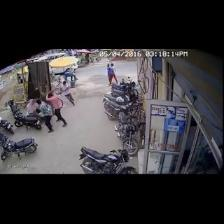person: (46, 92, 67, 127), (37, 100, 53, 132), (61, 82, 74, 105), (110, 63, 118, 83), (107, 64, 111, 85)
